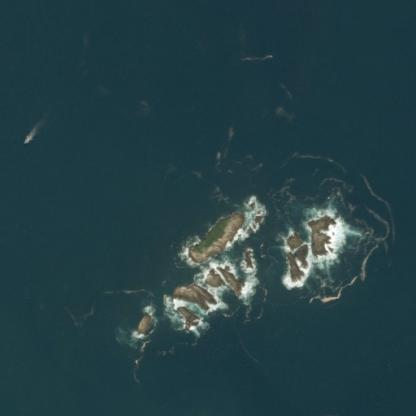ship: (21, 136, 29, 144)
